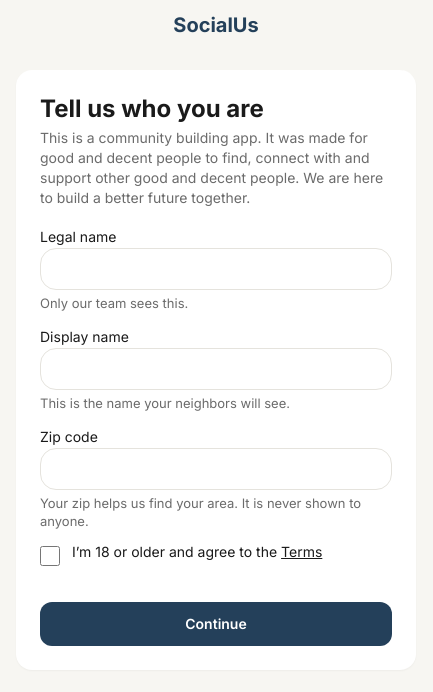
F081 — the signup screen › requires each field and names the one that is missing
The image size is (433, 692).
Click the button with test id "onboarding-continue".
click(216, 624)  # box x1=40 y1=602 x2=392 y2=646
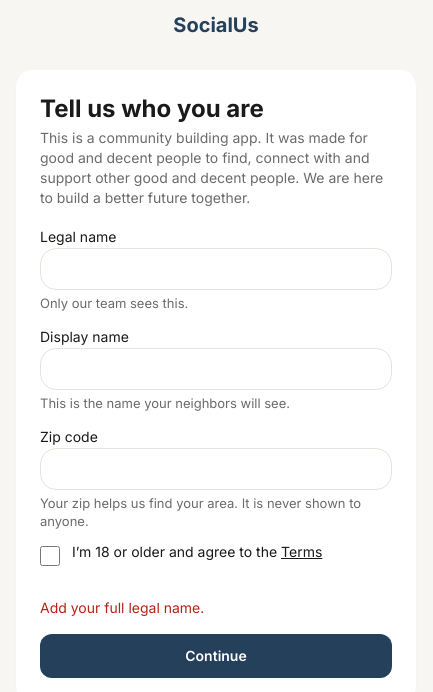
expect the message "Add your full legal name." is shown: met, box x1=40 y1=599 x2=204 y2=616
Type "Maya Rivera" into the field with test id "onboarding-legal-name".
click(216, 269); type("Maya Rivera")  # box x1=40 y1=248 x2=392 y2=290
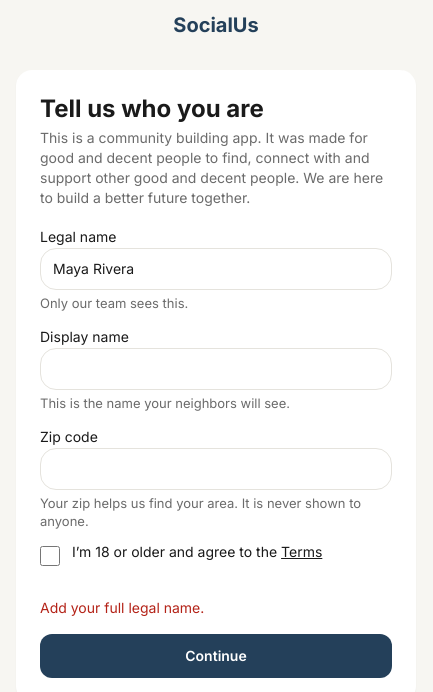
Type "Maya" into the field with test id "onboarding-name".
click(216, 369); type("Maya")  # box x1=40 y1=348 x2=392 y2=390
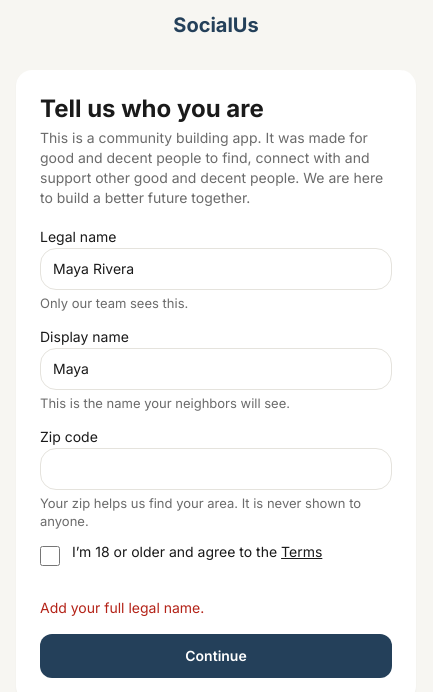
Type "958" into the field with test id "onboarding-zip".
click(216, 469); type("958")  # box x1=40 y1=448 x2=392 y2=490
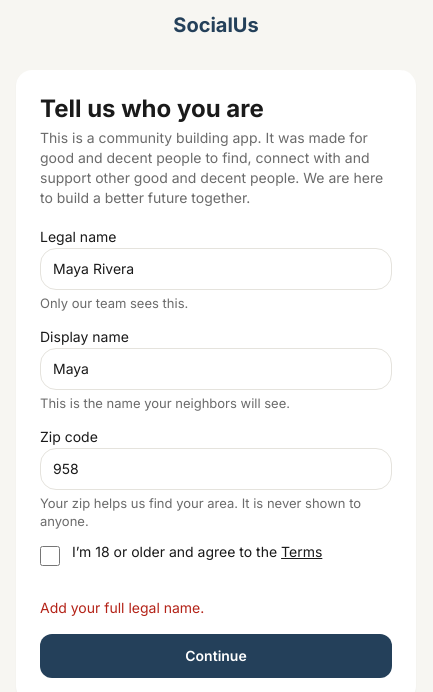
Click the checkbox with test id "onboarding-adult".
click(50, 556)  # box x1=40 y1=546 x2=60 y2=566
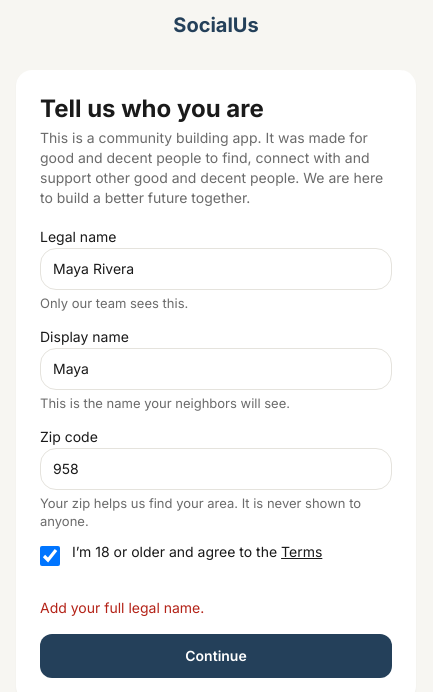
Click the button with test id "onboarding-continue".
click(216, 656)  # box x1=40 y1=634 x2=392 y2=678
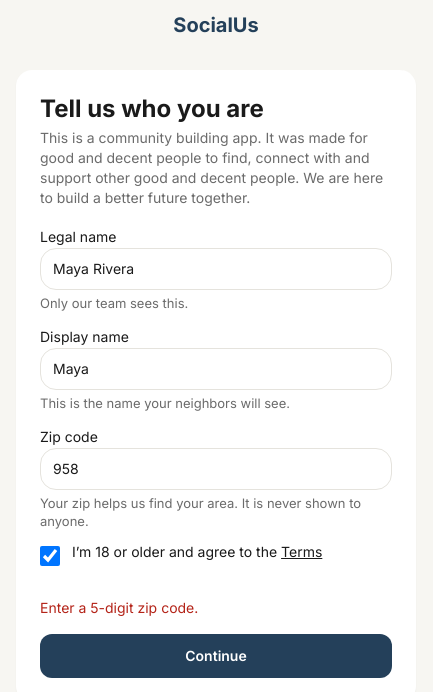
expect the message with test id "onboarding-error" shows "zip": met, box x1=40 y1=599 x2=198 y2=616
